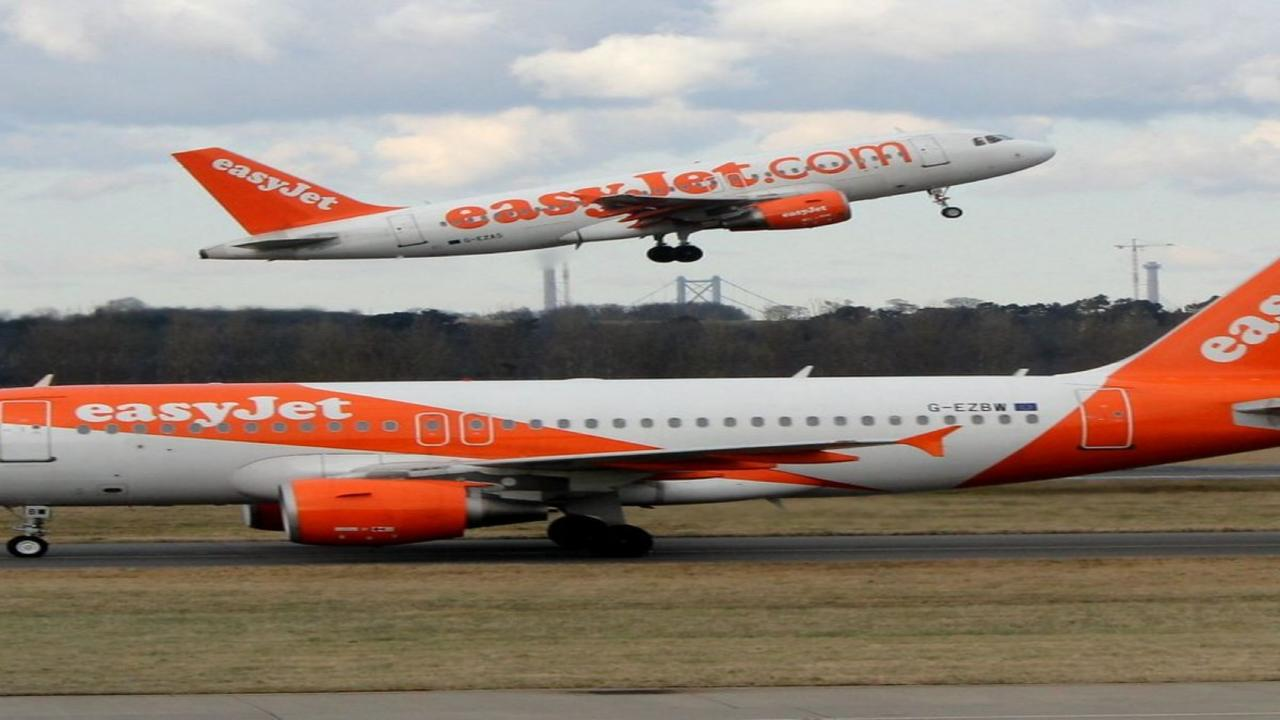Airplane: (158, 115, 1064, 282)
